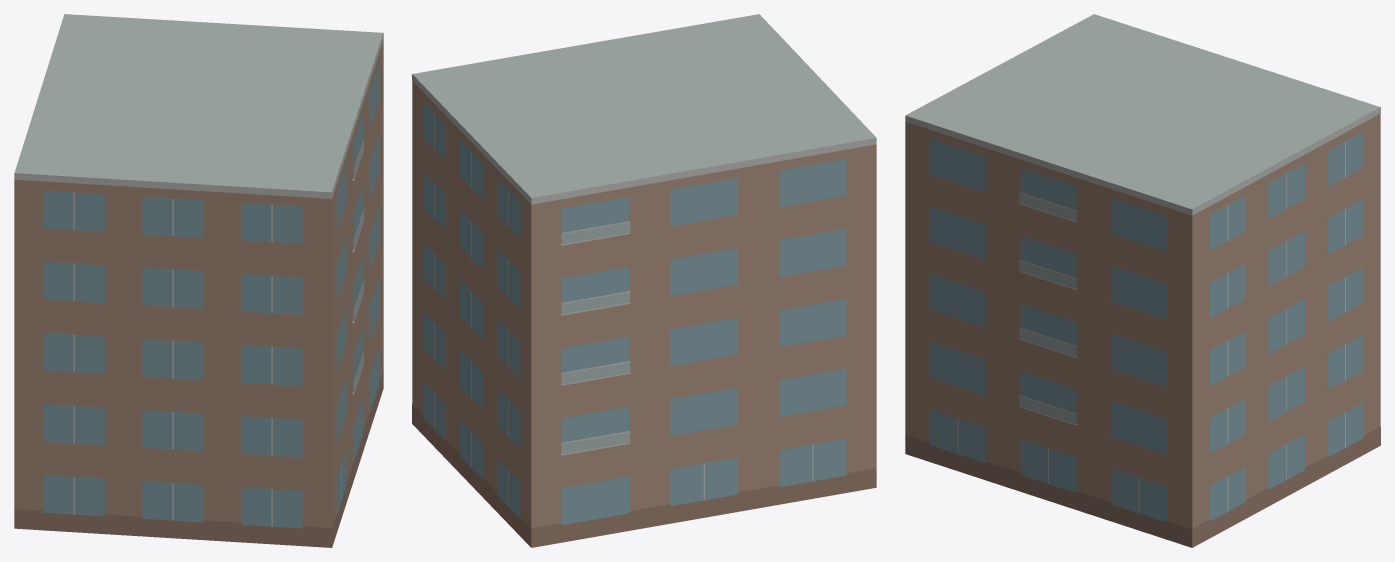
Rendered from survey-upis-32881879.glb.
The picture shows the model from 3 angles, left to right: view 1: azimuth 30°, elevation 25°; view 2: azimuth 150°, elevation 25°; view 3: azimuth 270°, elevation 25°; orthographic projection. The views are drawn at different scales.
Visible parts, largest first — view 1: survey-upis-32881879.tmp; view 2: survey-upis-32881879.tmp; view 3: survey-upis-32881879.tmp.
Boxes of the visible parts, x1=… form: survey-upis-32881879.tmp: x1=14, y1=14, x2=383, y2=547; survey-upis-32881879.tmp: x1=412, y1=14, x2=876, y2=547; survey-upis-32881879.tmp: x1=905, y1=14, x2=1380, y2=547.
Bounding box in the file's own units: 16.36 × 13.2 × 16.82.
